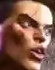kevin: (0, 0, 49, 69)
